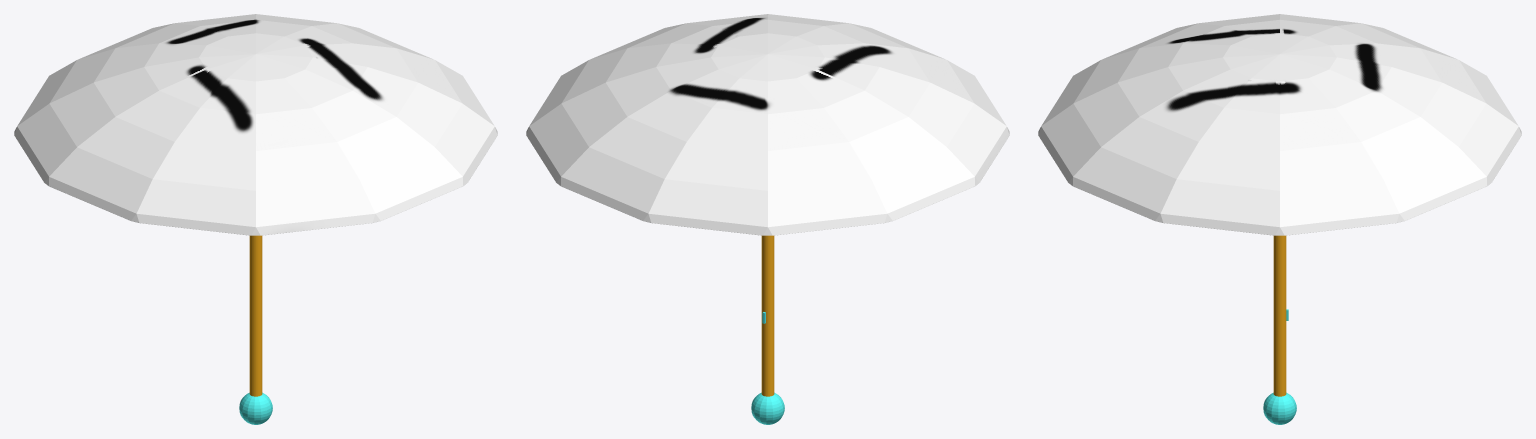
3 renders of one model, left to right at view 1: azimuth 30°, elevation 25°; view 2: azimuth 150°, elevation 25°; view 3: azimuth 270°, elevation 25°, orthographic.
Parts seen in each view (by area): view 1: Esfera UV.001; view 2: Esfera UV.001; view 3: Esfera UV.001.
Boxes of the visible parts, bbox=[...] form: Esfera UV.001: bbox=[14, 14, 497, 424]; Esfera UV.001: bbox=[526, 14, 1009, 424]; Esfera UV.001: bbox=[1038, 14, 1521, 424].
Size of the model in its own units: 12.1 by 10.2 by 12.1.
Materials: 1 (1 with a texture image).
